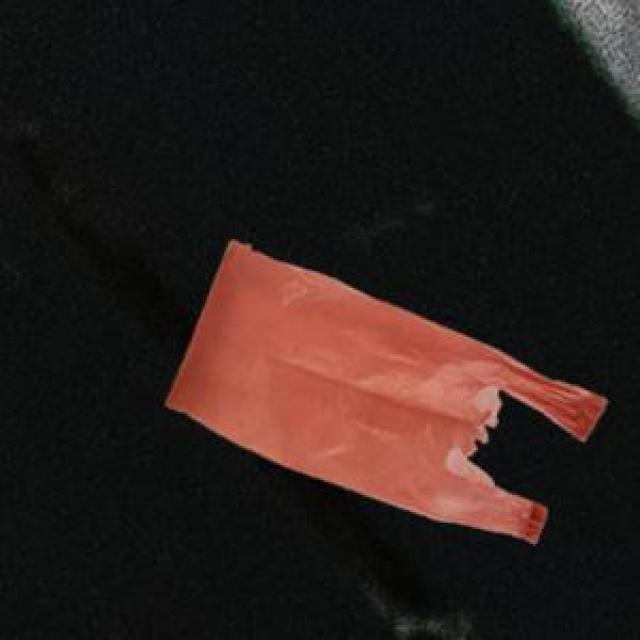plastic: (155, 213, 617, 591)
